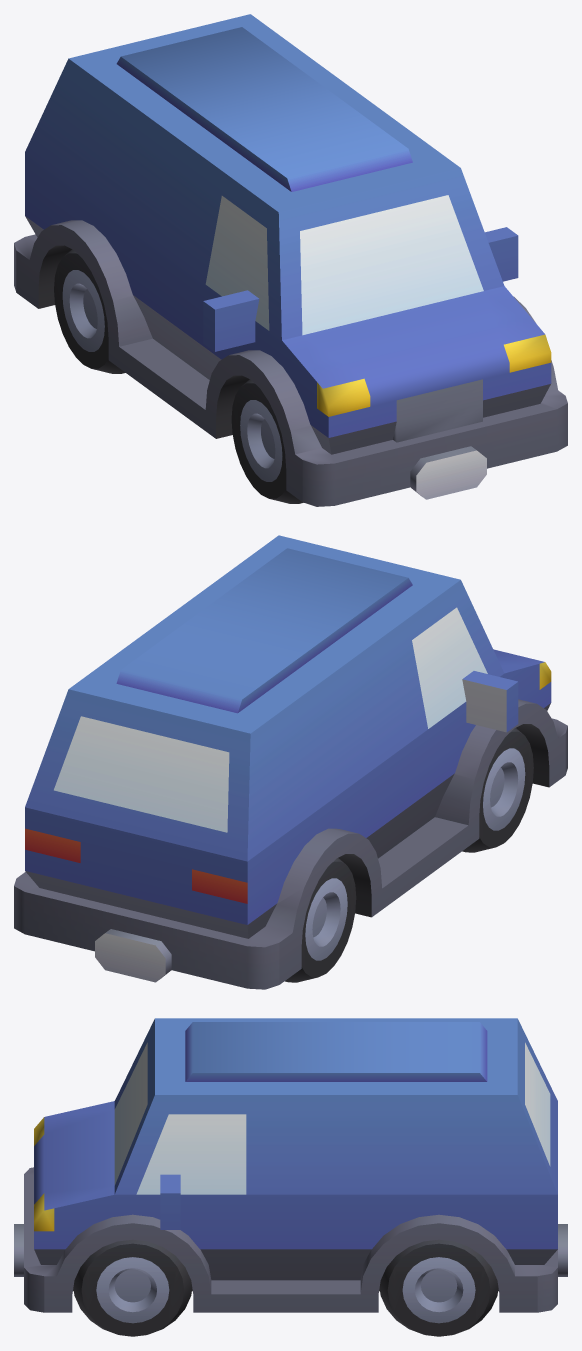
The model's file is van.glb.
3 views of the same model, one above another, from view 1: azimuth 30°, elevation 25°; view 2: azimuth 150°, elevation 25°; view 3: azimuth 270°, elevation 25° (orthographic). The views are drawn at different scales.
Parts seen in each view (by area): view 1: wheel-front-right; view 2: wheel-front-right; view 3: wheel-front-right.
Boxes of the visible parts, x1,y1,x2,y2 form: wheel-front-right: (14, 14, 567, 506); wheel-front-right: (14, 535, 567, 989); wheel-front-right: (14, 1018, 567, 1336).
Bounding box in the file's own units: 1.5 × 1.35 × 2.75.
1 material, 1 textured.
